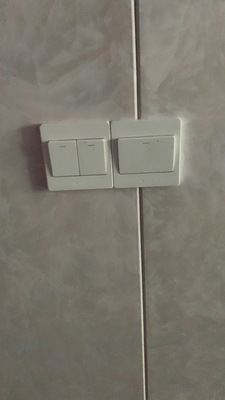switch: (117, 134, 177, 174), (48, 137, 79, 177), (78, 138, 108, 175)
